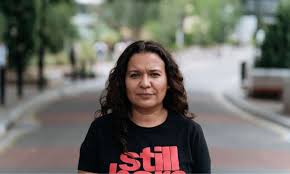black_female: (103, 34, 177, 117)
